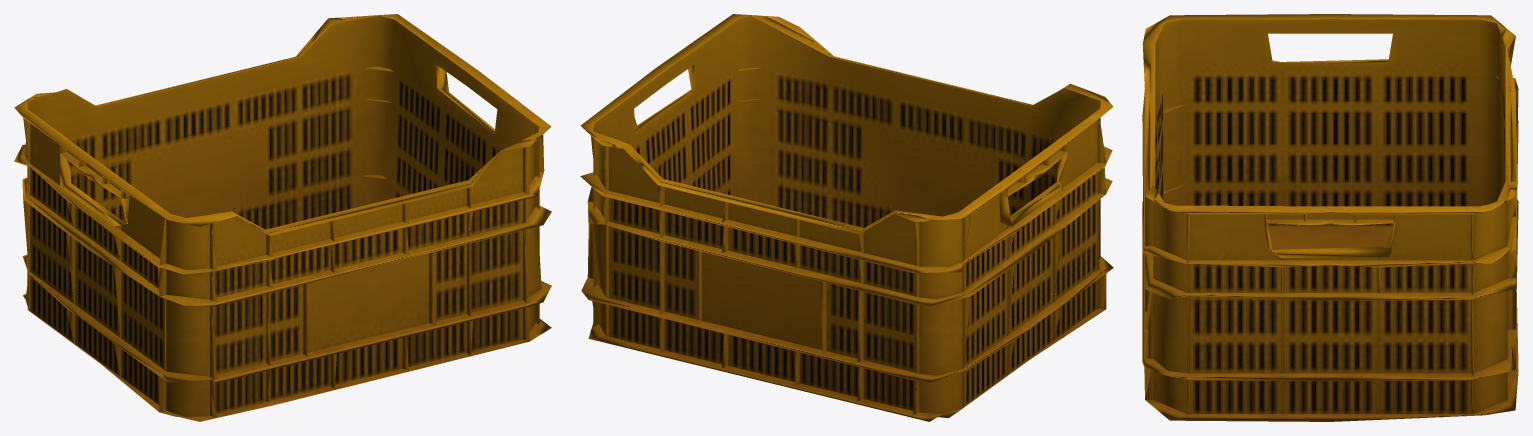
File: pit_crate.glb
3 renders of one model, left to right at view 1: azimuth 30°, elevation 25°; view 2: azimuth 150°, elevation 25°; view 3: azimuth 270°, elevation 25°, orthographic. The views are drawn at different scales.
Parts seen in each view (by area): view 1: plastic_crate_02; view 2: plastic_crate_02; view 3: plastic_crate_02.
Part boxes in pixels (x1,y1,x2,y2): plastic_crate_02: [14, 14, 551, 421]; plastic_crate_02: [580, 14, 1113, 421]; plastic_crate_02: [1142, 14, 1518, 421].
Size of the model in its own units: 0.5055 by 0.2541 by 0.4055.
Materials: 1 (1 with a texture image).
